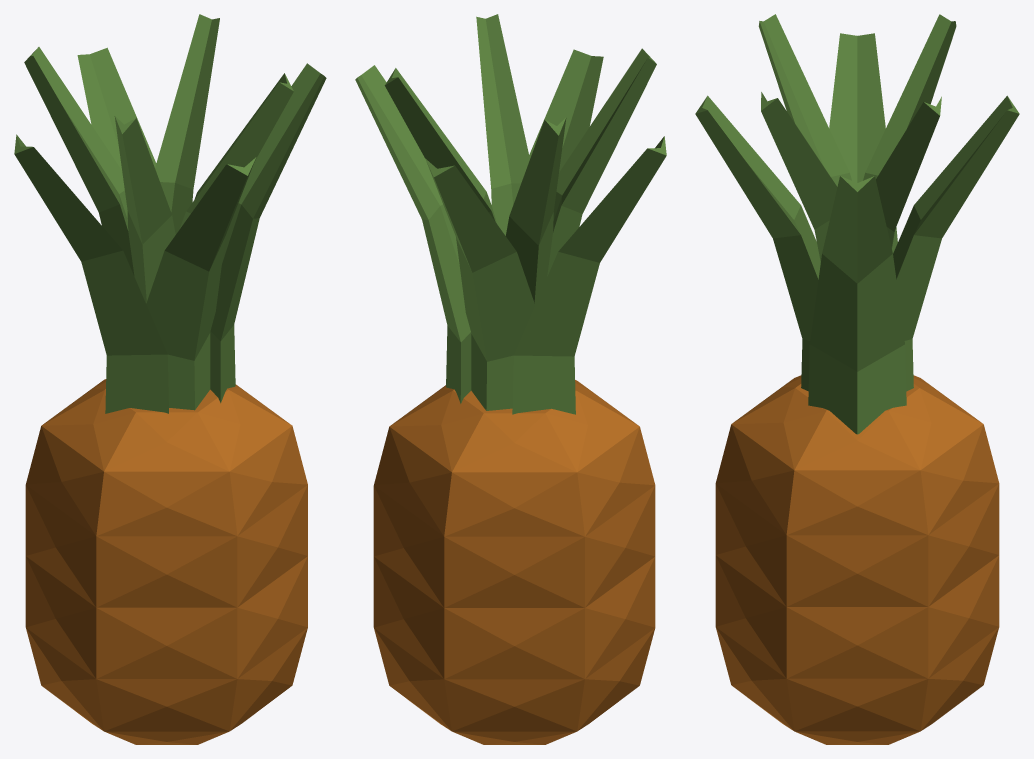
Rendered from SM_Envr_Nature_Farm_Plant_Pineapple.fbx.
The picture shows the model from 3 angles, left to right: view 1: azimuth 30°, elevation 25°; view 2: azimuth 150°, elevation 25°; view 3: azimuth 270°, elevation 25°; orthographic projection.
Parts seen in each view (by area): view 1: SM_Envr_Nature_Farm_Plant_Pineapple; view 2: SM_Envr_Nature_Farm_Plant_Pineapple; view 3: SM_Envr_Nature_Farm_Plant_Pineapple.
Boxes of the visible parts, x1=… form: SM_Envr_Nature_Farm_Plant_Pineapple: x1=14, y1=14, x2=326, y2=744; SM_Envr_Nature_Farm_Plant_Pineapple: x1=355, y1=14, x2=666, y2=744; SM_Envr_Nature_Farm_Plant_Pineapple: x1=695, y1=14, x2=1019, y2=744.
Size of the model in its own units: 18.4 by 37.12 by 16.48.
